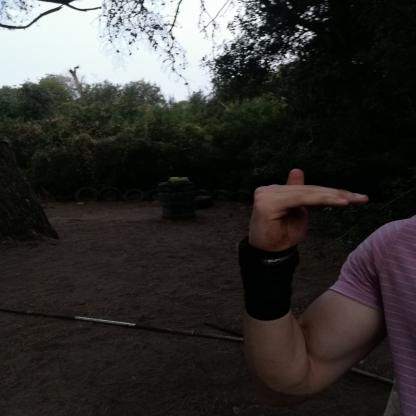KHAA: (230, 159, 379, 266)
